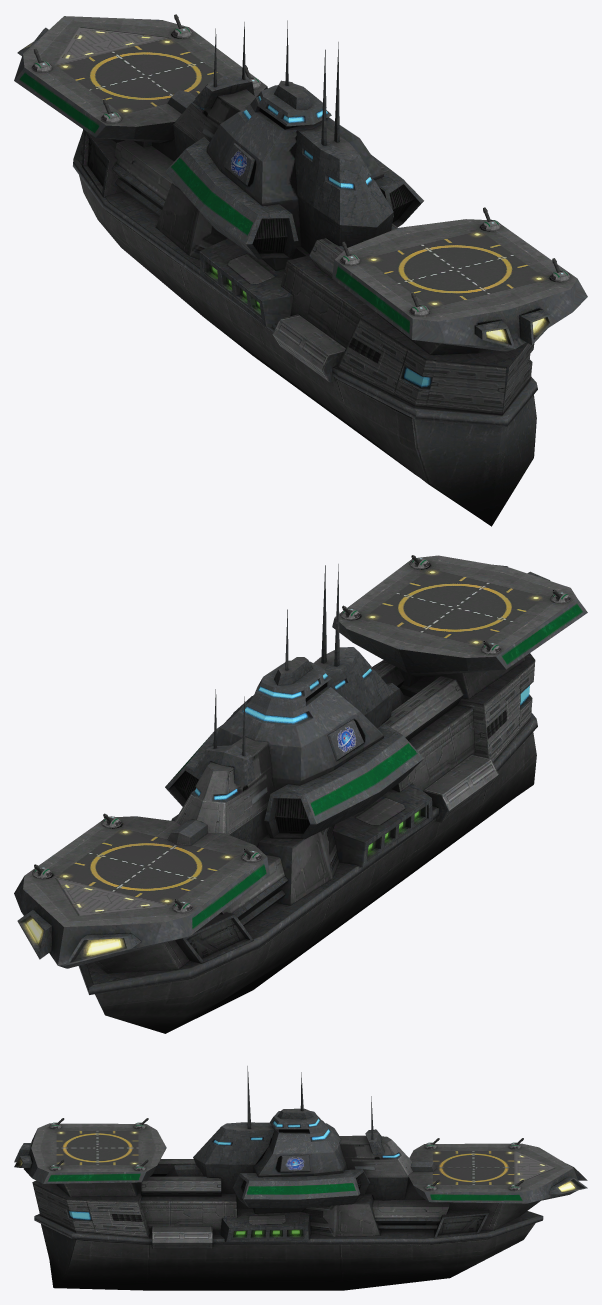
File: navy_battleship.glb
3 views of the same model, one above another, from view 1: azimuth 30°, elevation 25°; view 2: azimuth 150°, elevation 25°; view 3: azimuth 270°, elevation 25° (orthographic). The views are drawn at different scales.
Visible parts, largest first — view 1: detail0, turret01; view 2: detail0, turret01; view 3: detail0, turret02.
Boxes of the visible parts, x1,y1,x2,y2 form: detail0: (14,16,587,526); turret01: (203,259,261,317); detail0: (14,555,587,1033); turret01: (367,805,426,859); detail0: (14,1066,587,1290); turret02: (231,1229,304,1238).
Bounding box in the file's own units: 0.7352 × 1.45 × 3.33.
2 materials, 2 textured.
